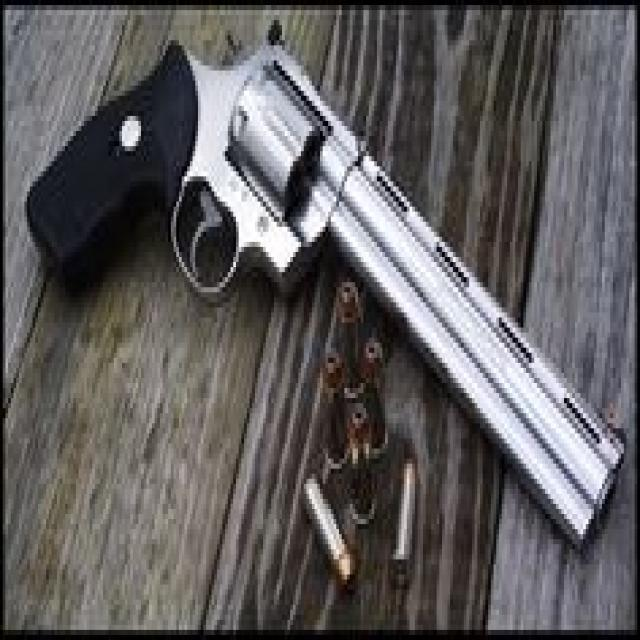revolver: (14, 6, 639, 598)
